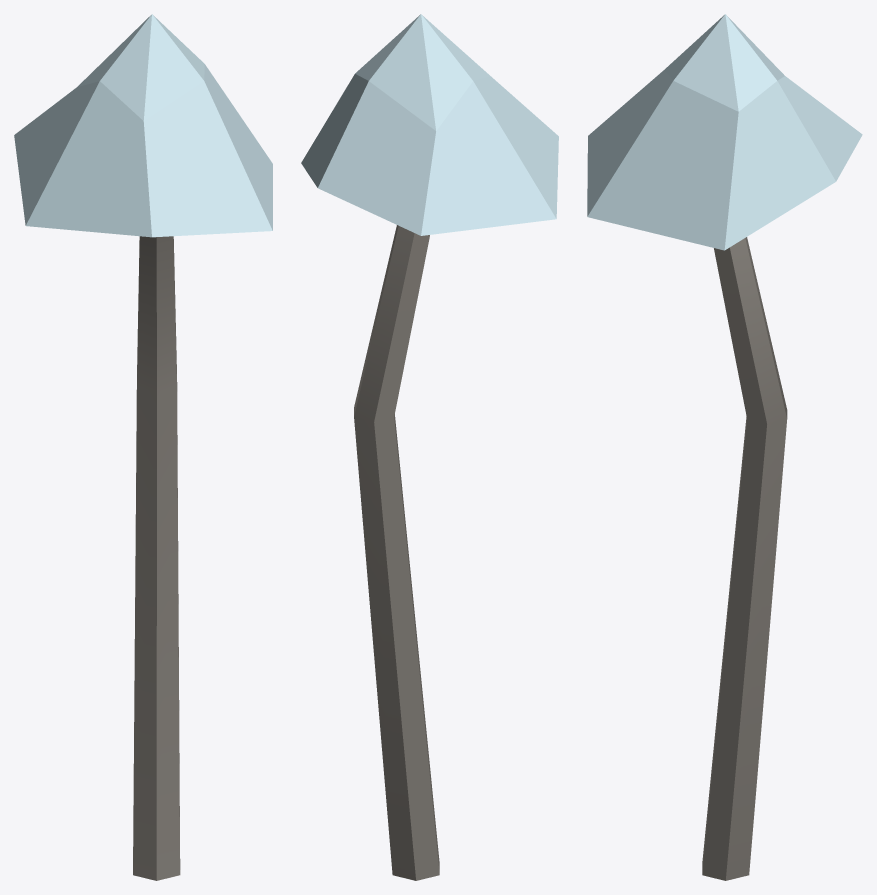
Rendered from SM_Env_Dungeon_Mushroom_02_Snow.fbx.
3 renders of one model, left to right at view 1: azimuth 30°, elevation 25°; view 2: azimuth 150°, elevation 25°; view 3: azimuth 270°, elevation 25°, orthographic.
Visible parts, largest first — view 1: SM_Env_Dungeon_Mushroom_02_Snow; view 2: SM_Env_Dungeon_Mushroom_02_Snow; view 3: SM_Env_Dungeon_Mushroom_02_Snow.
Part boxes in pixels (box(x1,y1,x2,y2)): SM_Env_Dungeon_Mushroom_02_Snow: box(14, 14, 272, 880); SM_Env_Dungeon_Mushroom_02_Snow: box(301, 14, 558, 880); SM_Env_Dungeon_Mushroom_02_Snow: box(587, 14, 862, 880).
Size of the model in its own units: 27.59 by 89.83 by 26.29.
Materials: 1 (1 with a texture image).
